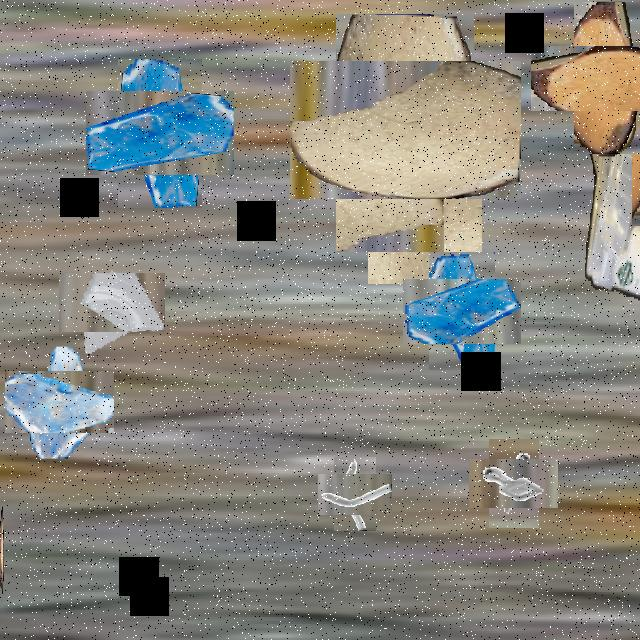glass: (102, 75, 218, 192), (352, 154, 466, 268), (416, 265, 508, 357), (16, 359, 102, 445), (70, 260, 154, 344)
metal: (479, 449, 549, 518), (326, 465, 384, 523)
plastic: (578, 2, 640, 311)
wood: (312, 38, 498, 222), (552, 23, 640, 132), (632, 2, 640, 226), (0, 457, 3, 638)
